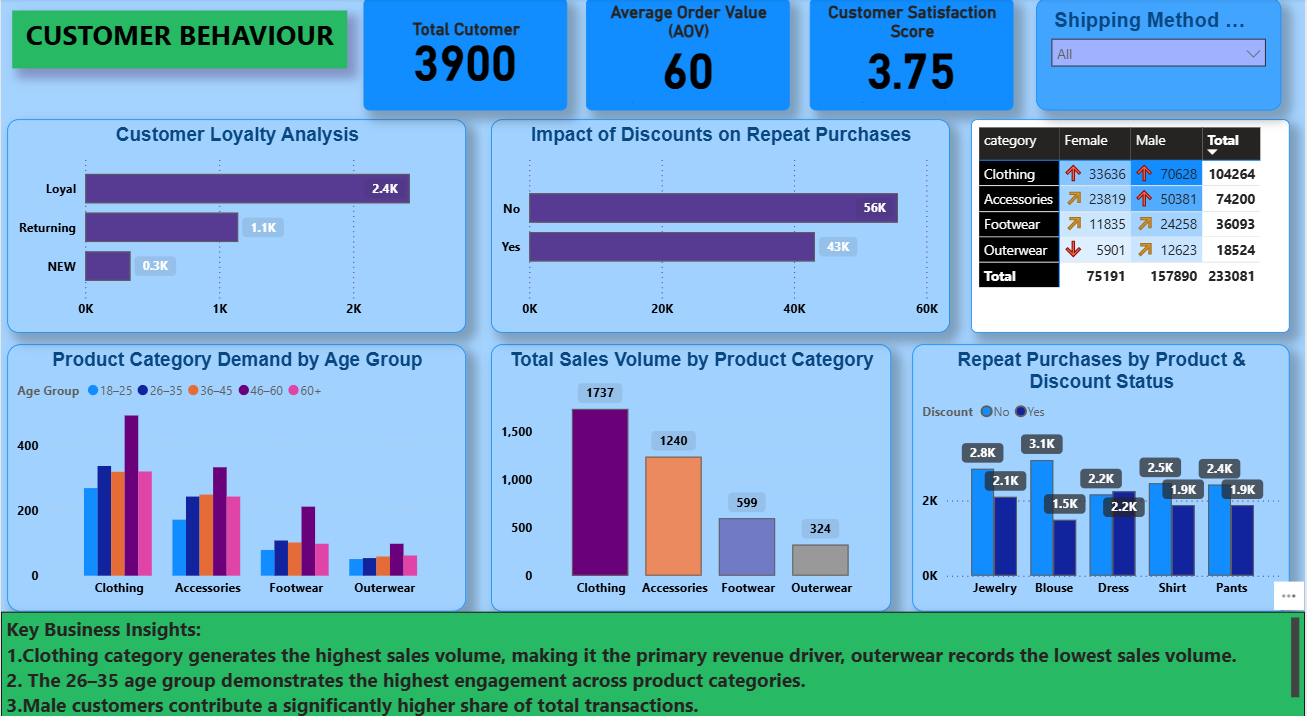

This screenshot's page, from the dashboard's own definition file:
{"tool":"powerbi","page":{"name":"Page 1","canvas":[1280,720],"ordinal":0},"visuals":[{"type":"card","title":"Average Order Value (AOV)","fields":{"Values":["public customer.Average_amount"]},"box":[574.2,0,200,110.4],"z":1000},{"type":"card","title":"Customer Satisfaction Score","fields":{"Values":["public customer.Average_rating"]},"box":[793.9,0,200,110.4],"z":2000},{"type":"clusteredColumnChart","title":"Total Sales Volume by Product Category","fields":{"Category":["public customer.category"],"Y":["CountNonNull(public customer.purchase_amount)"]},"box":[481,339.9,392.6,262.6],"z":3000},{"type":"clusteredBarChart","title":"Impact of Discounts on Repeat Purchases","fields":{"Category":["public customer.discount_applied"],"Y":["Sum(public customer.previous_purchases)"]},"box":[481,119,450.3,209.8],"z":4000},{"type":"textbox","box":[11,12.3,328.8,56.4],"z":5000},{"type":"pivotTable","fields":{"Rows":["public customer.Age Group","public customer.category"],"Columns":["public customer.gender"],"Values":["Sum(public customer.purchase_amount)"]},"box":[952.2,119,312.9,209.8],"z":6000},{"type":"lineClusteredColumnComboChart","title":"Product Category Demand by Age Group","fields":{"Category":["public customer.category"],"Y":["CountNonNull(public customer.item_purchased)"],"Series":["public customer.Age Group"]},"box":[6.1,339.9,450.3,262.6],"z":7000},{"type":"lineClusteredColumnComboChart","title":"Repeat Purchases by Product & Discount Status","fields":{"Category":["public customer.item_purchased"],"Y":["Sum(public customer.previous_purchases)"],"Series":["public customer.discount_applied"]},"box":[894.5,339.9,370.6,262.6],"z":8000},{"type":"slicer","fields":{"Values":["public customer.shipping_type"]},"box":[1016,0,240.5,110.4],"z":9000},{"type":"clusteredBarChart","title":"Customer Loyalty Analysis","fields":{"Category":["public customer.Customer_Type"],"Y":["CountNonNull(public customer.customer_id)"]},"box":[6.1,119,450.3,209.8],"z":10000},{"type":"card","title":"Total Cutomer","fields":{"Values":["public customer.Total Customer"]},"box":[355.8,0,200,110.4],"z":10001},{"type":"textbox","box":[0,602.5,1279.8,117.8],"z":10002}]}

Visuals, with their boxes in screenshot pixels (x1, y1, x2, y2), scaled from the page's 1280x720 canvas onto the 1307x716 screenshot:
"Average Order Value (AOV)" card: 586, 0, 791, 110
"Customer Satisfaction Score" card: 811, 0, 1015, 110
"Total Sales Volume by Product Category" clusteredColumnChart: 491, 338, 892, 599
"Impact of Discounts on Repeat Purchases" clusteredBarChart: 491, 118, 951, 327
textbox: 11, 12, 347, 68
pivotTable - public customer.Age Group x public customer.category: 972, 118, 1292, 327
"Product Category Demand by Age Group" lineClusteredColumnComboChart: 6, 338, 466, 599
"Repeat Purchases by Product & Discount Status" lineClusteredColumnComboChart: 913, 338, 1292, 599
slicer - public customer.shipping_type: 1037, 0, 1283, 110
"Customer Loyalty Analysis" clusteredBarChart: 6, 118, 466, 327
"Total Cutomer" card: 363, 0, 568, 110
textbox: 0, 599, 1306, 715
